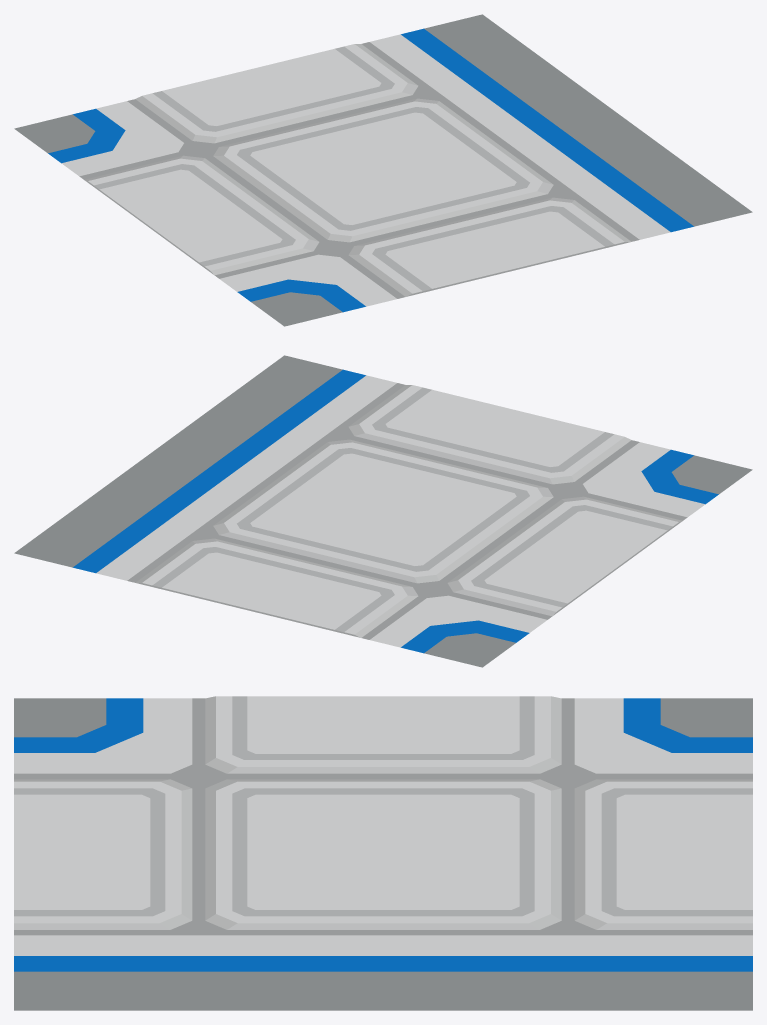
File: Floor_type_A_020.glb
The picture shows the model from 3 angles, top to bottom: view 1: azimuth 30°, elevation 25°; view 2: azimuth 150°, elevation 25°; view 3: azimuth 270°, elevation 25°; orthographic projection. The views are drawn at different scales.
Visible parts, largest first — view 1: Floor_type_A_020; view 2: Floor_type_A_020; view 3: Floor_type_A_020.
Boxes of the visible parts, x1,y1,x2,y2 form: Floor_type_A_020: (14,14,752,326); Floor_type_A_020: (14,355,752,667); Floor_type_A_020: (14,696,752,1010).
Size of the model in its own units: 4 by 0.0134 by 4.
2 materials, 2 textured.
